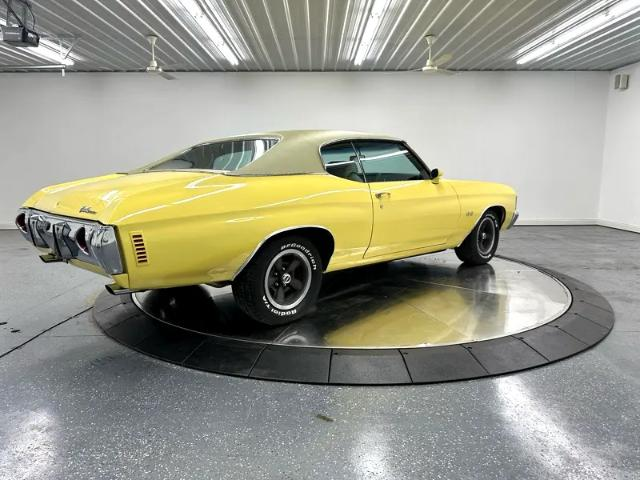chevelle-1972: (15, 130, 518, 325)
